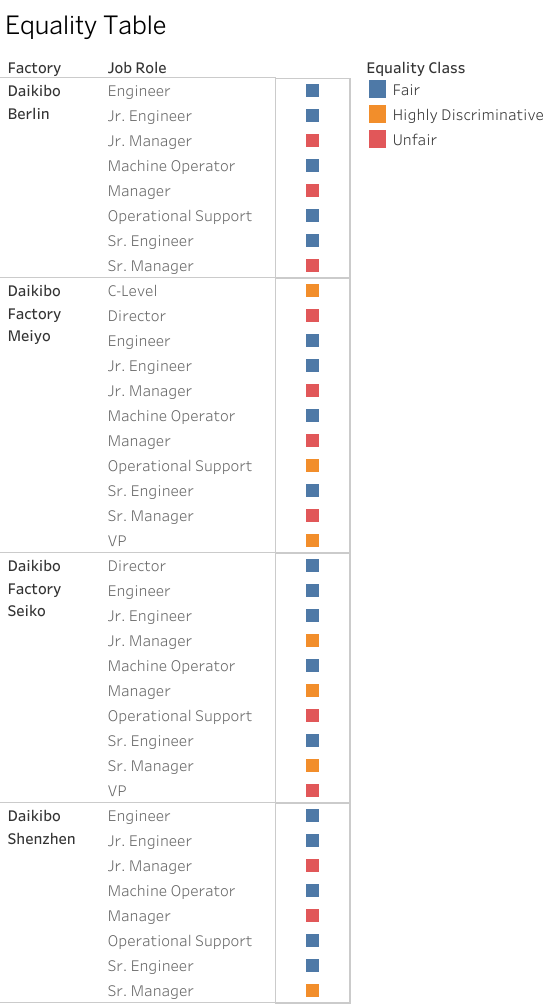

What the dashboard file says about the page in this screenshot:
{"tool":"tableau","page":{"name":"Dashboard 1","canvas":[650,860],"ordinal":0},"visuals":[{"type":"worksheet","title":"Sheet 1","mark":"Automatic","rows":["Factory","Job Role"],"box":[8,8.7,474,842.6]},{"type":"legend","title":"Sheet 1","param":"[federated.00slnys1v2bcoe0zr23on1yyj5yo].[none:Calculation_3581487606384570368:n","box":[482,8.7,160,101]}]}

Visuals, with their boxes on the page's 650x860 design canvas (x1, y1, x2, y2). These are canvas units, not pixel positions in the 550x1004 screenshot, which may show the page scaled, cropped or inside an application window:
"Sheet 1" worksheet: <region>8, 9, 482, 851</region>
"Sheet 1" legend: <region>482, 9, 642, 110</region>
